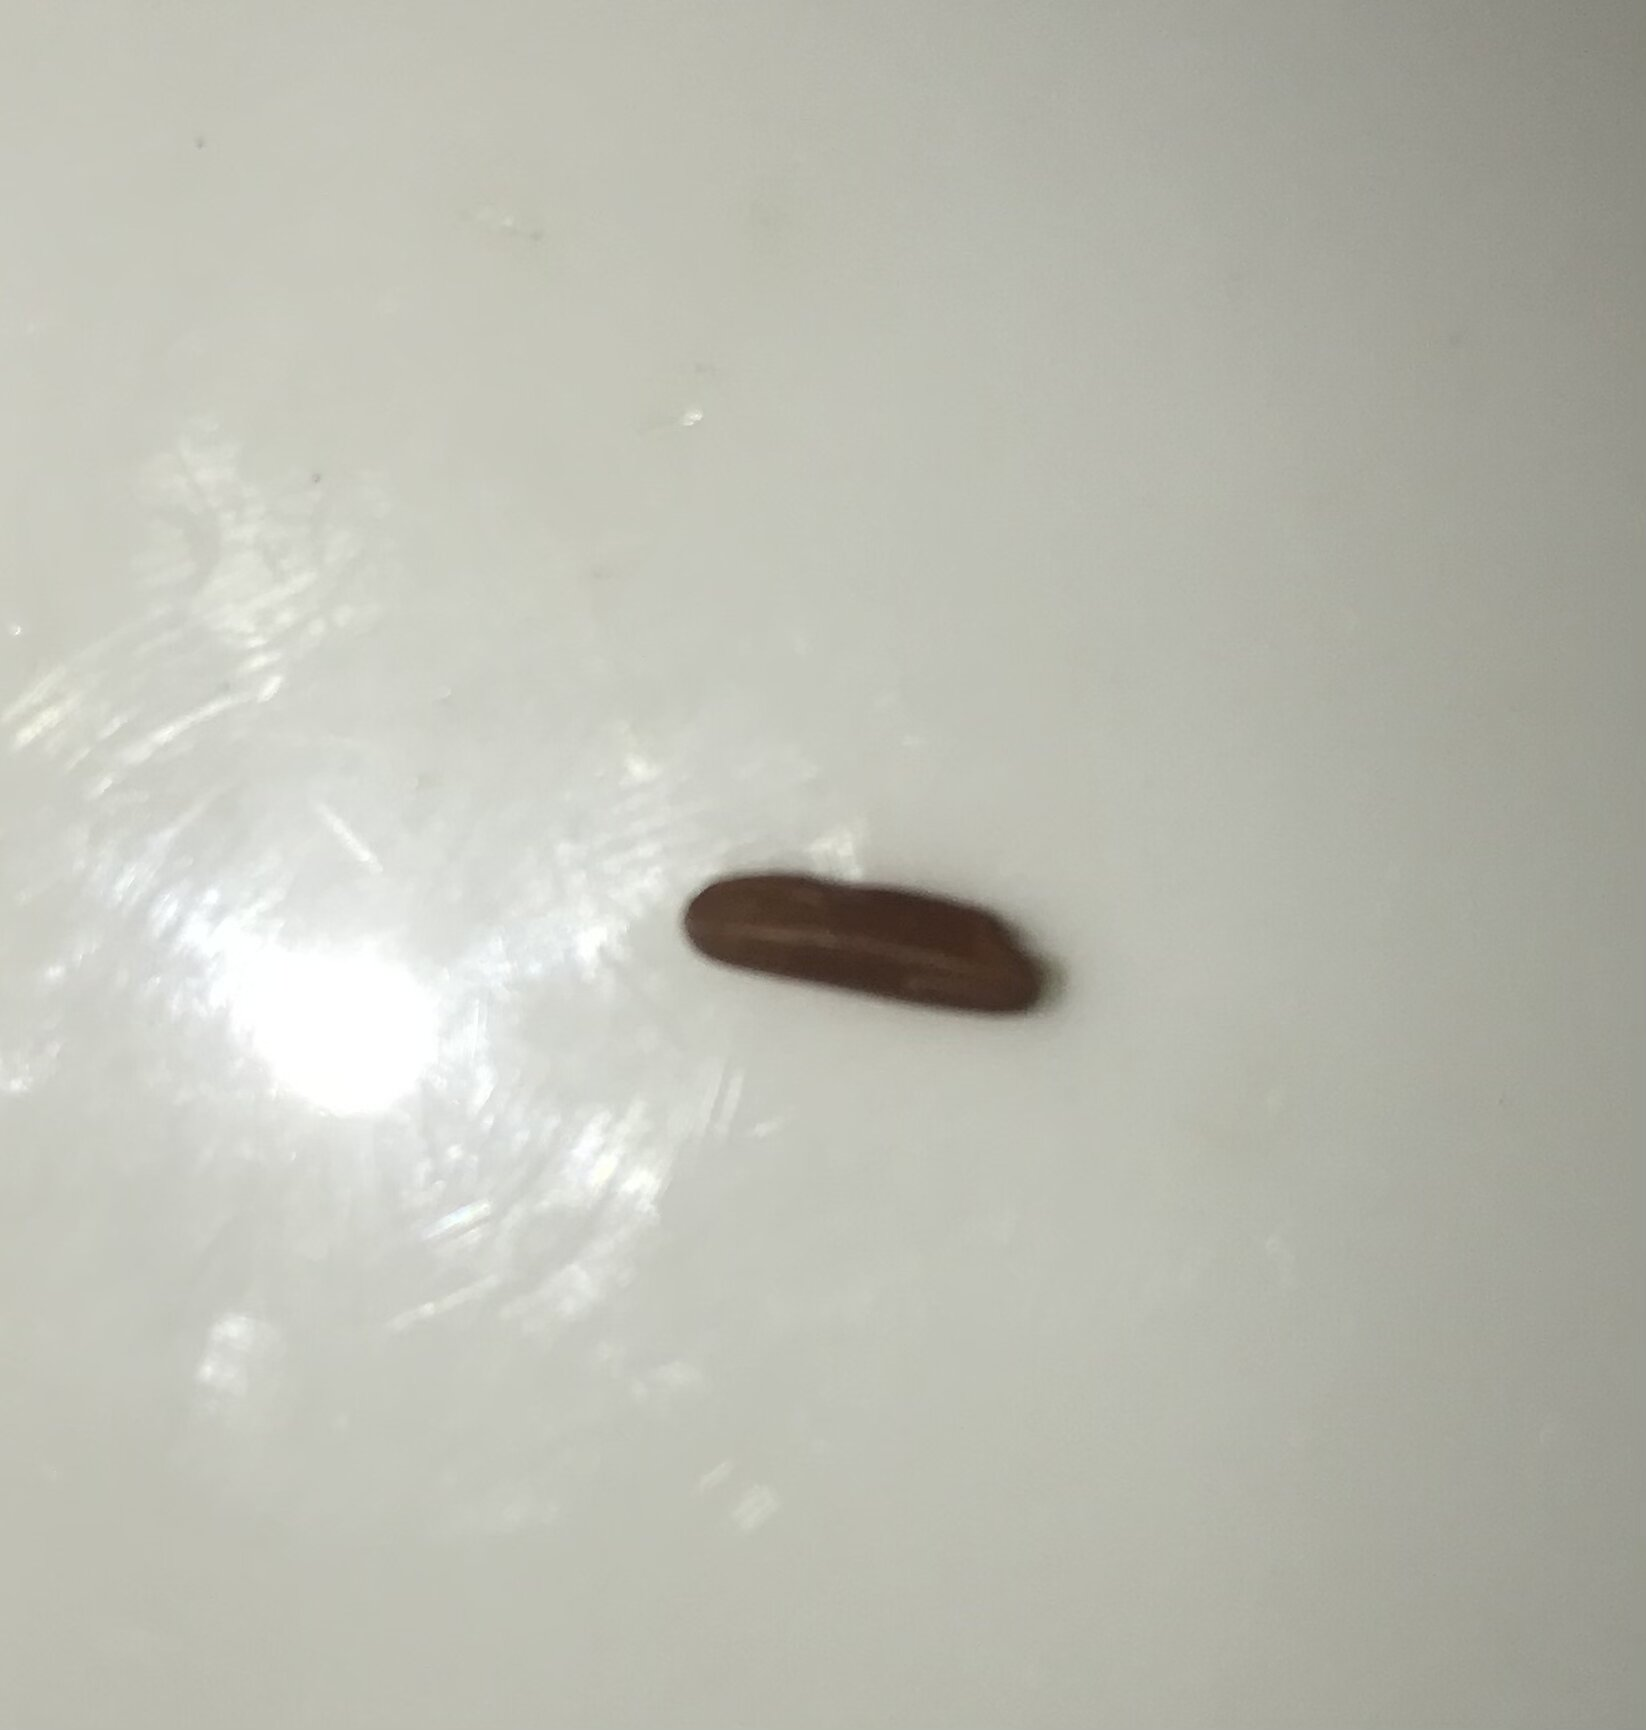Gao Huyet Rong: (678, 863, 1055, 1035)
